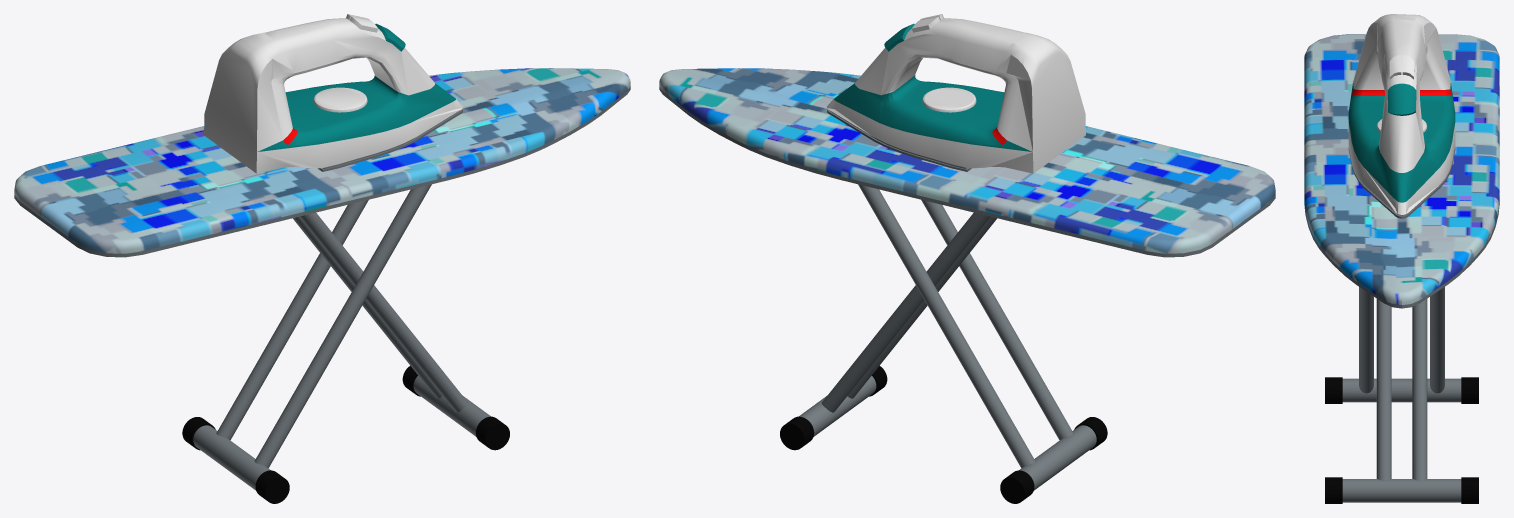
Rendered from ironing_board_with_iron.glb.
3 renders of one model, left to right at view 1: azimuth 30°, elevation 25°; view 2: azimuth 150°, elevation 25°; view 3: azimuth 270°, elevation 25°, orthographic. The views are drawn at different scales.
Visible parts, largest first — view 1: Cube_0, Cube.001_3; view 2: Cube_0, Cube.001_3; view 3: Cube_0, Cube.001_3.
Part boxes in pixels (x1=…): Cube_0: x1=14, y1=68, x2=630, y2=503; Cube.001_3: x1=204, y1=14, x2=462, y2=173; Cube_0: x1=659, y1=68, x2=1275, y2=503; Cube.001_3: x1=827, y1=14, x2=1085, y2=173; Cube_0: x1=1304, y1=34, x2=1499, y2=503; Cube.001_3: x1=1348, y1=14, x2=1455, y2=218.
Bounding box in the file's own units: 1.98 × 1.4 × 0.6198.
Materials: 7 (1 with a texture image).
